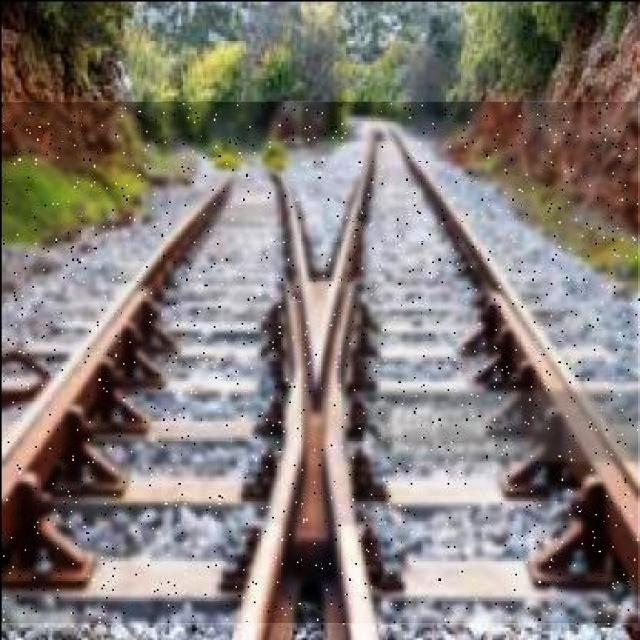rail: (2, 104, 639, 624)
